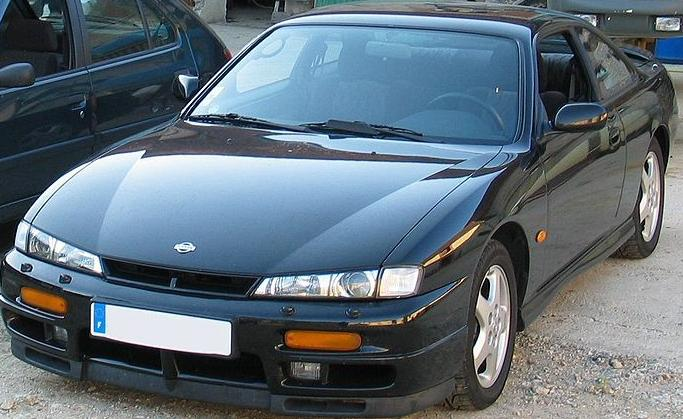front_view: (10, 212, 465, 410)
headlight: (244, 252, 427, 315)
side_glass: (514, 27, 639, 134)
